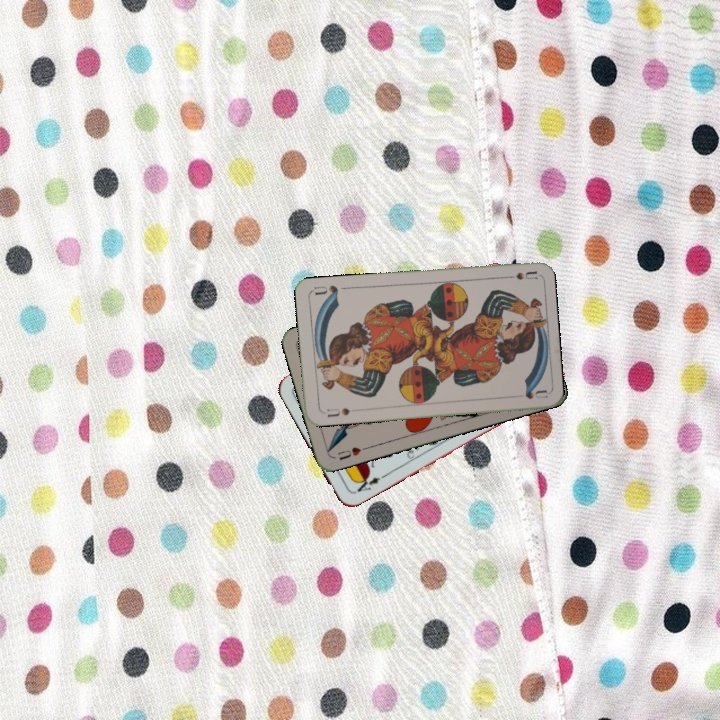EA: (350, 472, 383, 496)
HU: (333, 443, 370, 463)
SU: (498, 267, 538, 282), (319, 404, 352, 419)
